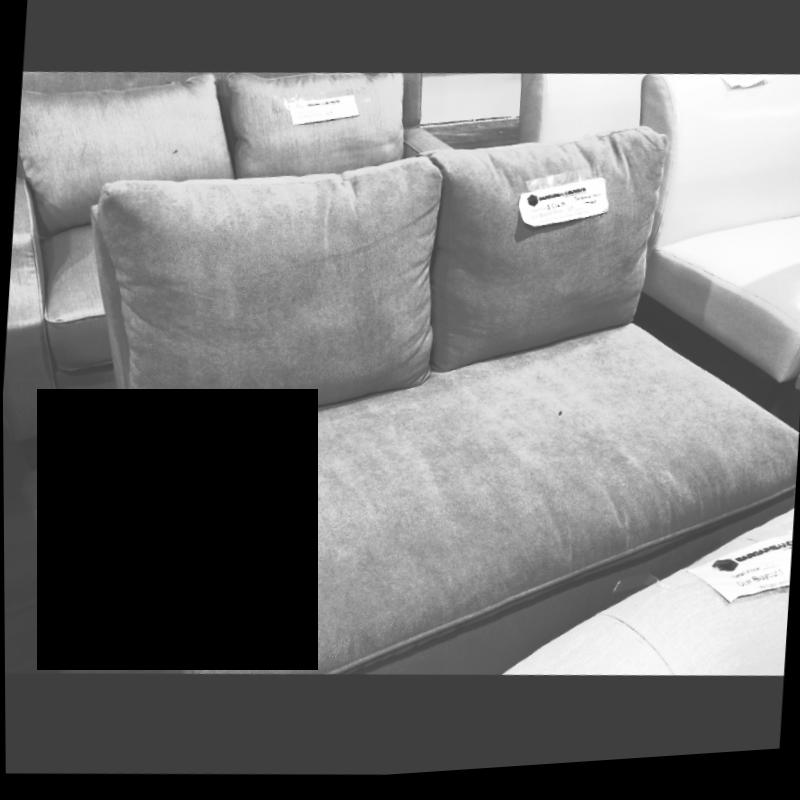pillow: (88, 141, 448, 472), (420, 126, 677, 401), (10, 62, 243, 259), (230, 67, 417, 191)
